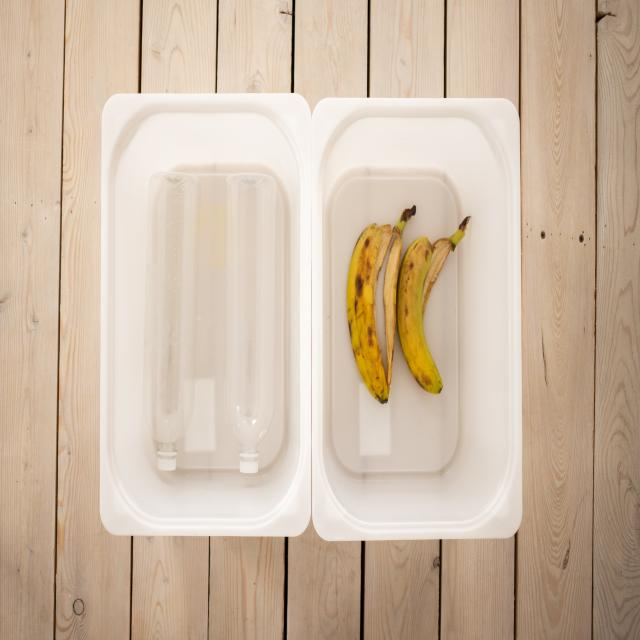plastic: (158, 165, 284, 479)
